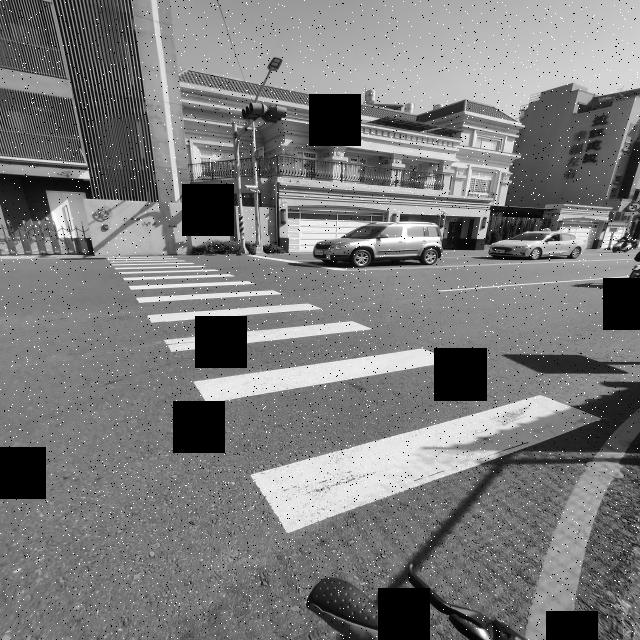zebra_crossing: (0, 0, 247, 521)
